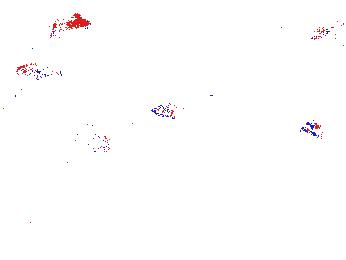X-ray fish: (78, 128, 111, 154), (58, 102, 80, 128), (66, 227, 81, 254)
glassfish: (151, 90, 241, 121), (299, 117, 327, 166)
red belly glassfish: (16, 62, 66, 80)
redtail glassfish: (53, 10, 90, 38), (314, 24, 346, 42)
